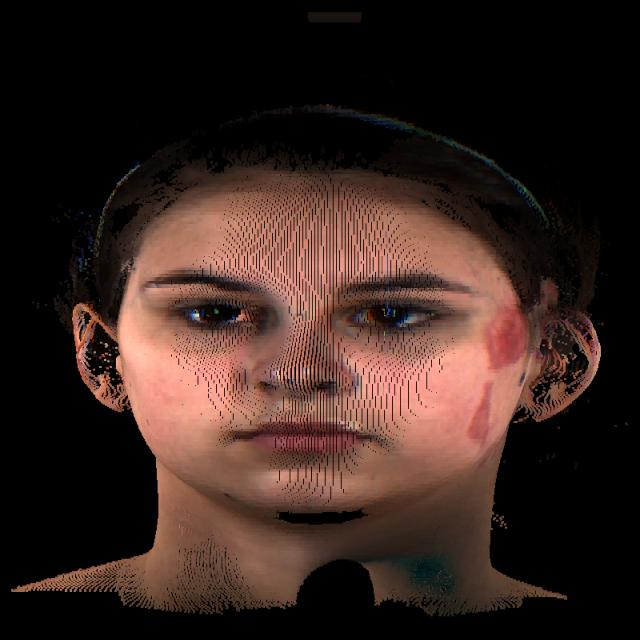burn: (486, 310, 526, 371), (469, 382, 492, 444)
